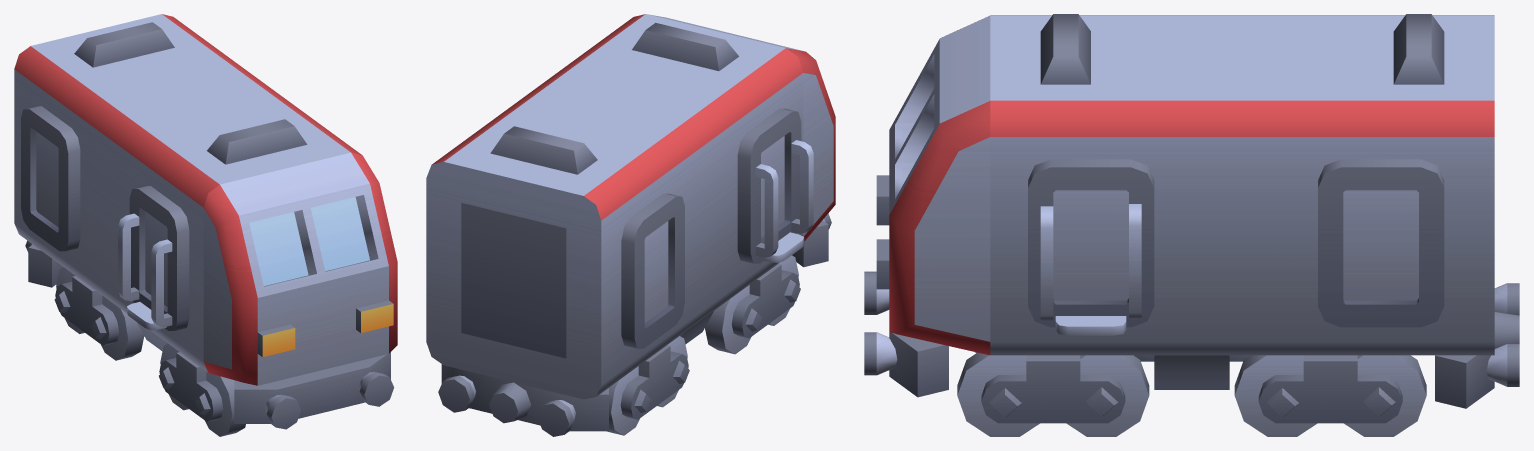
Rendered from tunnelbana.glb.
3 renders of one model, left to right at view 1: azimuth 30°, elevation 25°; view 2: azimuth 150°, elevation 25°; view 3: azimuth 270°, elevation 25°, orthographic. The views are drawn at different scales.
Visible parts, largest first — view 1: train-electric-subway-a, wheels-back, wheels-front; view 2: train-electric-subway-a, wheels-front, wheels-back; view 3: train-electric-subway-a, wheels-front, wheels-back.
Boxes of the visible parts, x1,y1,x2,y2 form: train-electric-subway-a: [14, 14, 397, 429]; wheels-back: [54, 267, 144, 360]; wheels-front: [159, 343, 245, 436]; train-electric-subway-a: [426, 14, 835, 436]; wheels-front: [705, 255, 800, 354]; wheels-back: [607, 336, 689, 435]; train-electric-subway-a: [864, 14, 1519, 408]; wheels-front: [957, 352, 1149, 436]; wheels-back: [1234, 355, 1426, 436].
Bounding box in the file's own units: 1.35 × 1.57 × 2.6.
Materials: 1 (1 with a texture image).
